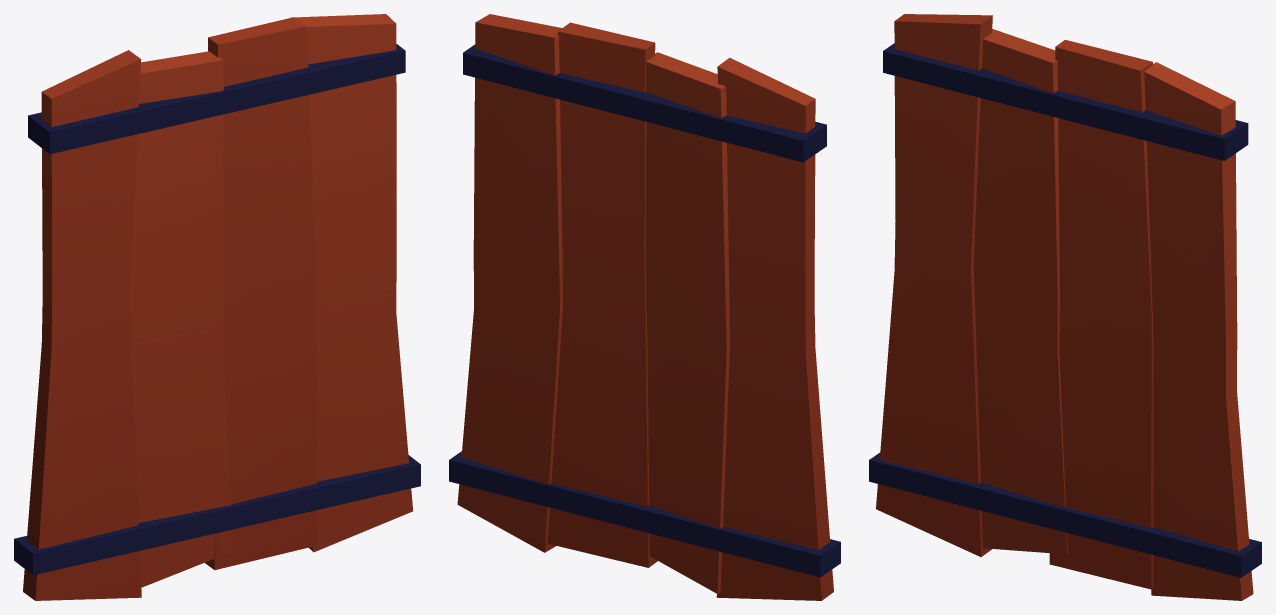
Rendered from AbilitySheet_Wood.fbx.
3 views of the same model, side by side, from view 1: azimuth 30°, elevation 25°; view 2: azimuth 150°, elevation 25°; view 3: azimuth 330°, elevation 25° (orthographic).
Visible parts, largest first — view 1: pCube9; view 2: pCube9; view 3: pCube9.
Boxes of the visible parts, x1,y1,x2,y2 form: pCube9: (14, 14, 420, 600); pCube9: (449, 14, 840, 600); pCube9: (869, 14, 1261, 600).
Bounding box in the file's own units: 210 × 282 × 26.56.
